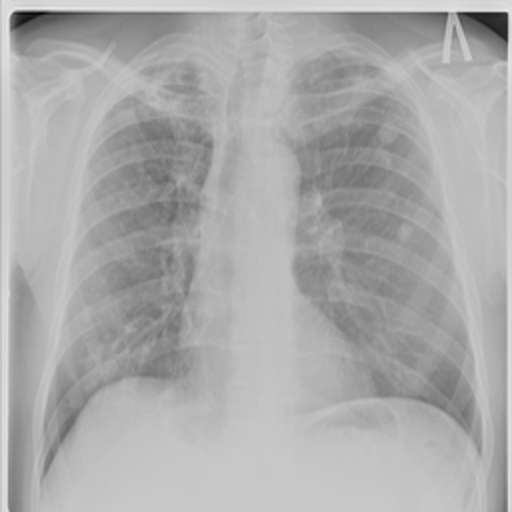TB: (105, 64, 214, 138), (381, 212, 436, 264)
